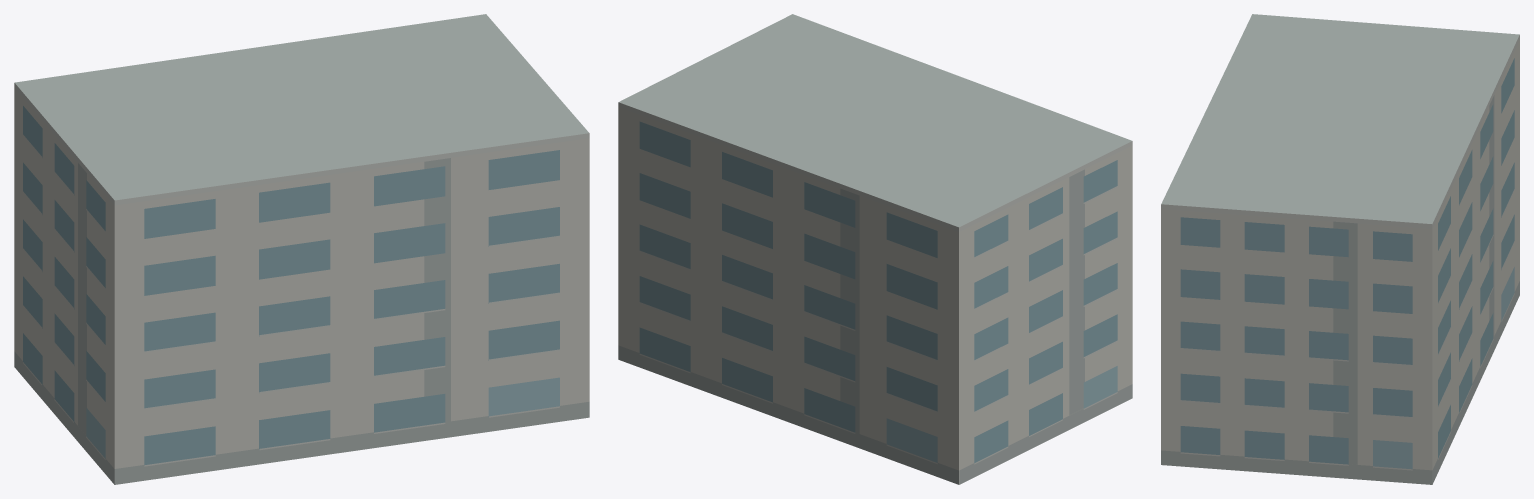
The model's file is survey-upis-32767756.glb.
3 views of the same model, side by side, from view 1: azimuth 30°, elevation 25°; view 2: azimuth 150°, elevation 25°; view 3: azimuth 270°, elevation 25° (orthographic). The views are drawn at different scales.
Visible parts, largest first — view 1: survey-upis-32767756.tmp; view 2: survey-upis-32767756.tmp; view 3: survey-upis-32767756.tmp.
Part boxes in pixels (x1=…): survey-upis-32767756.tmp: x1=14, y1=14, x2=589, y2=484; survey-upis-32767756.tmp: x1=618, y1=14, x2=1132, y2=484; survey-upis-32767756.tmp: x1=1161, y1=14, x2=1519, y2=484.
Bounding box in the file's own units: 23.17 × 13.4 × 16.72.
